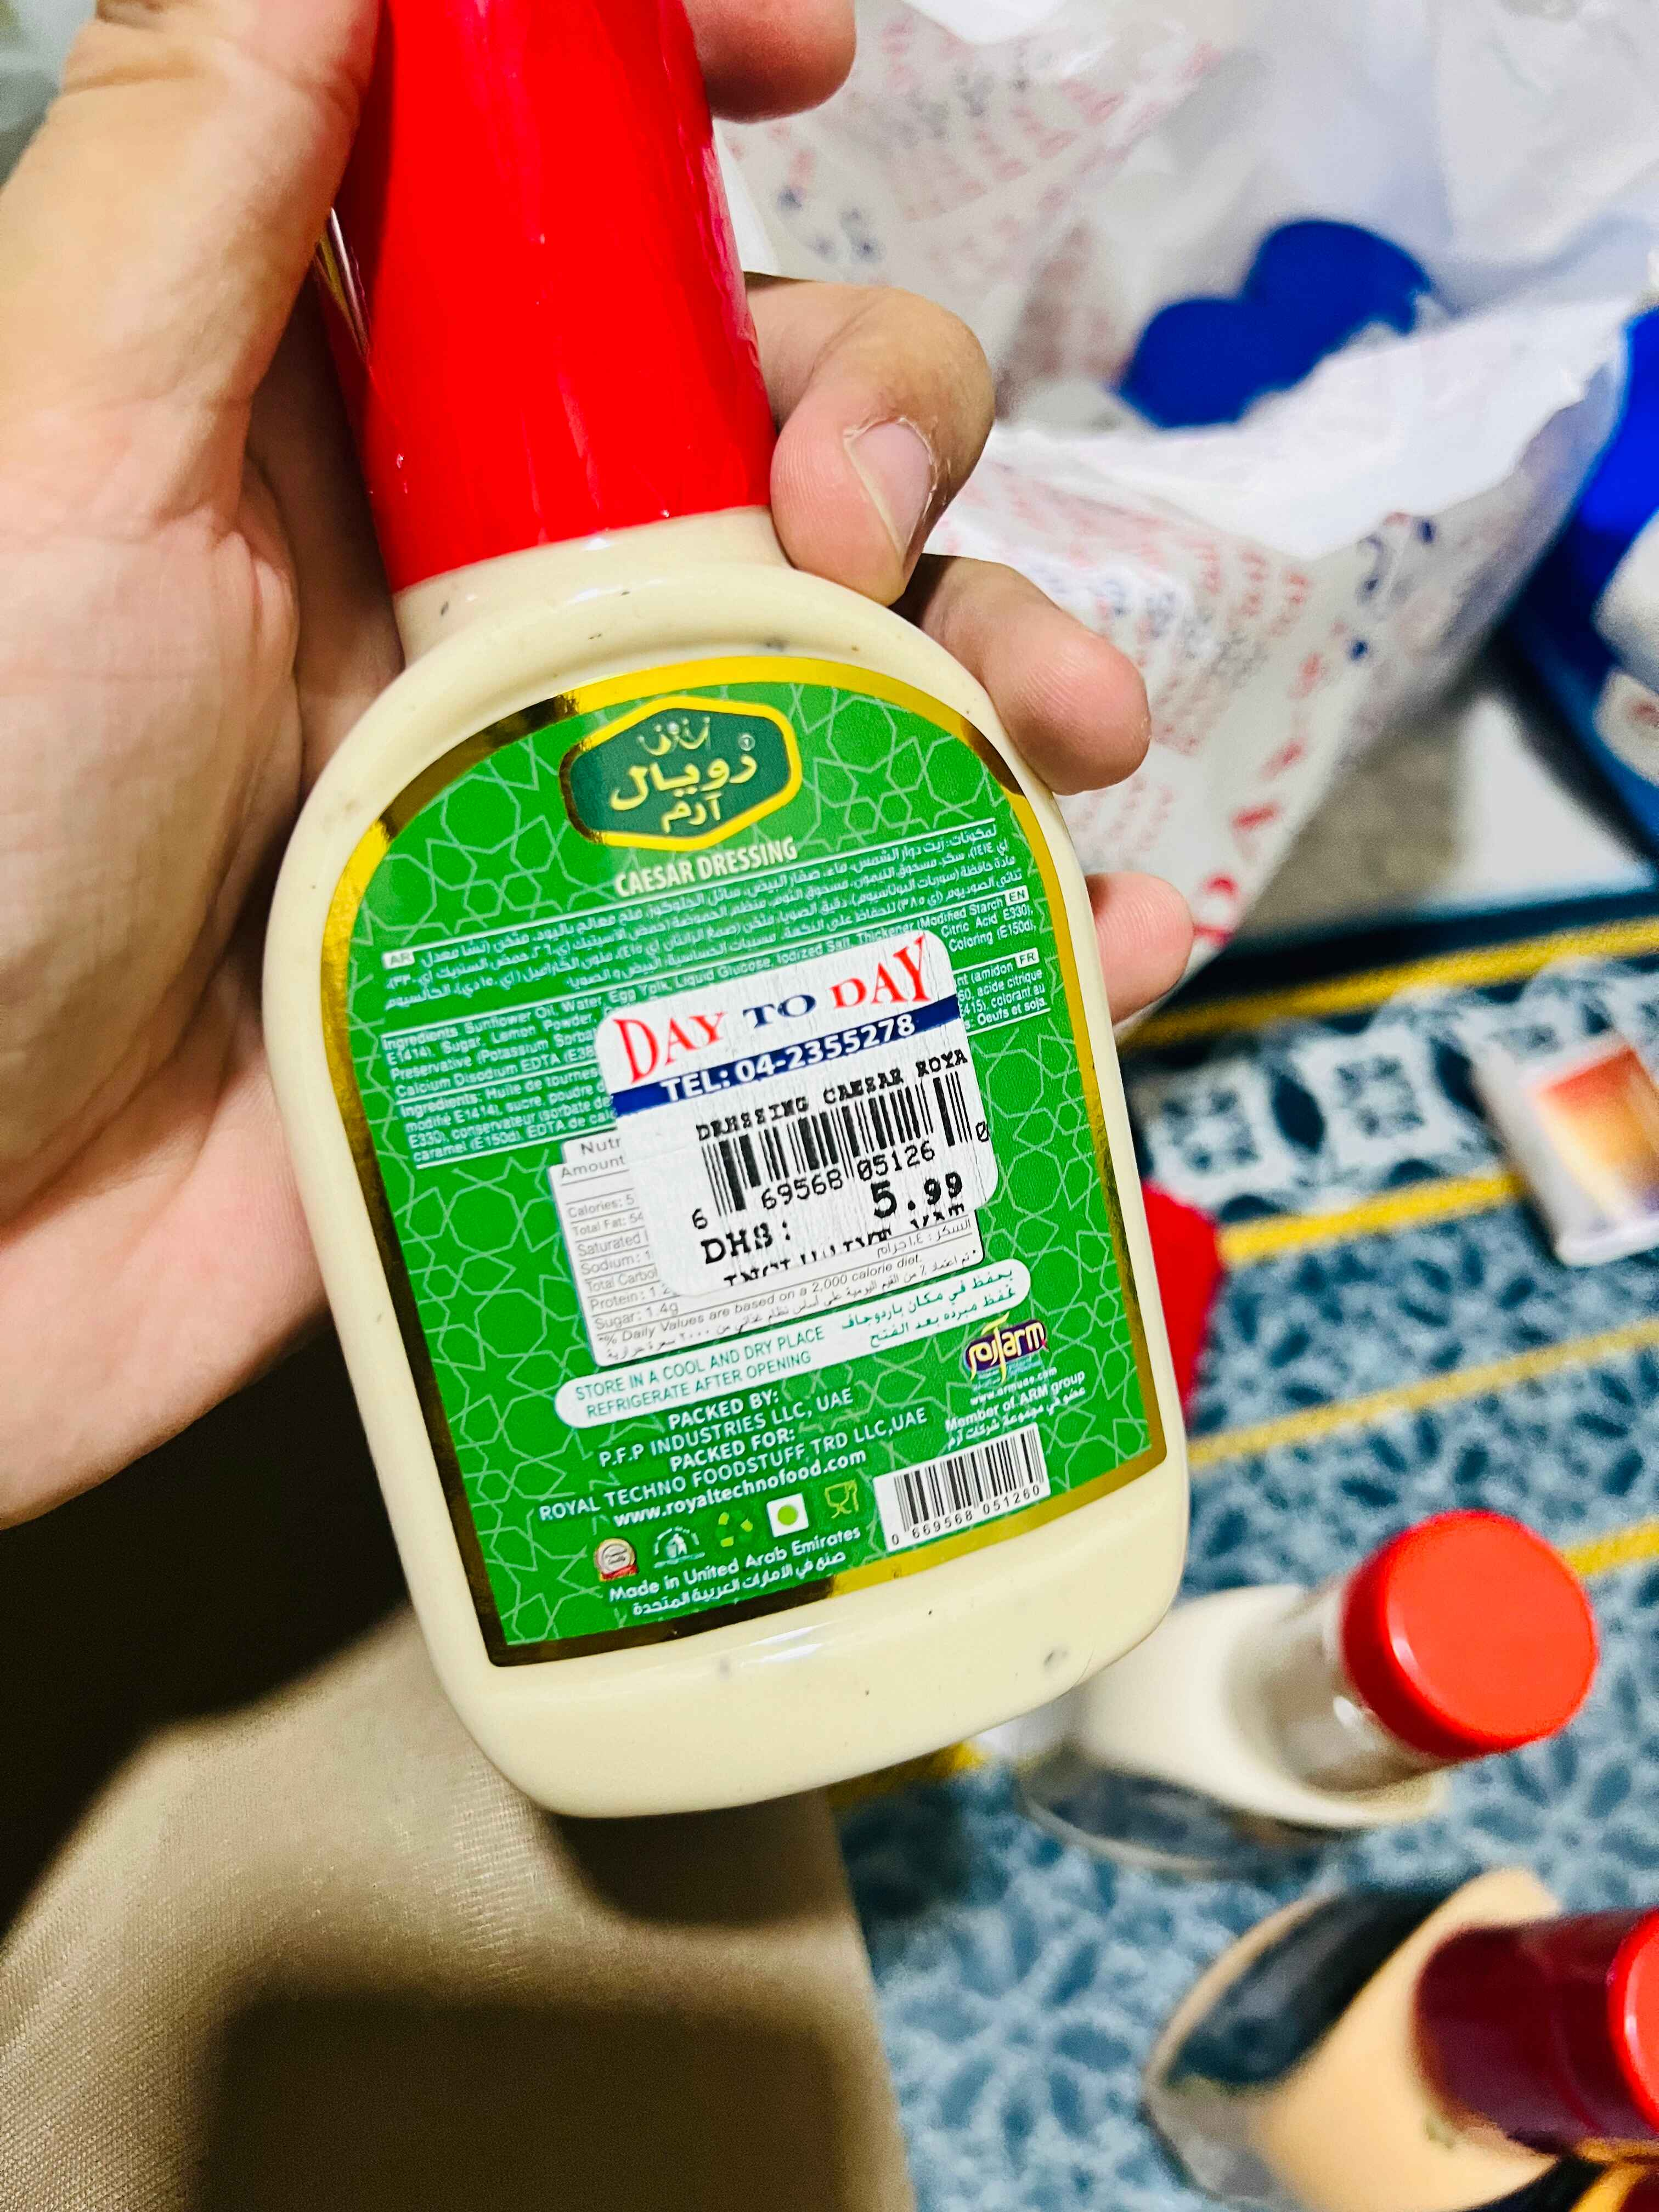PriceTagBig: (591, 934, 1016, 1315)
